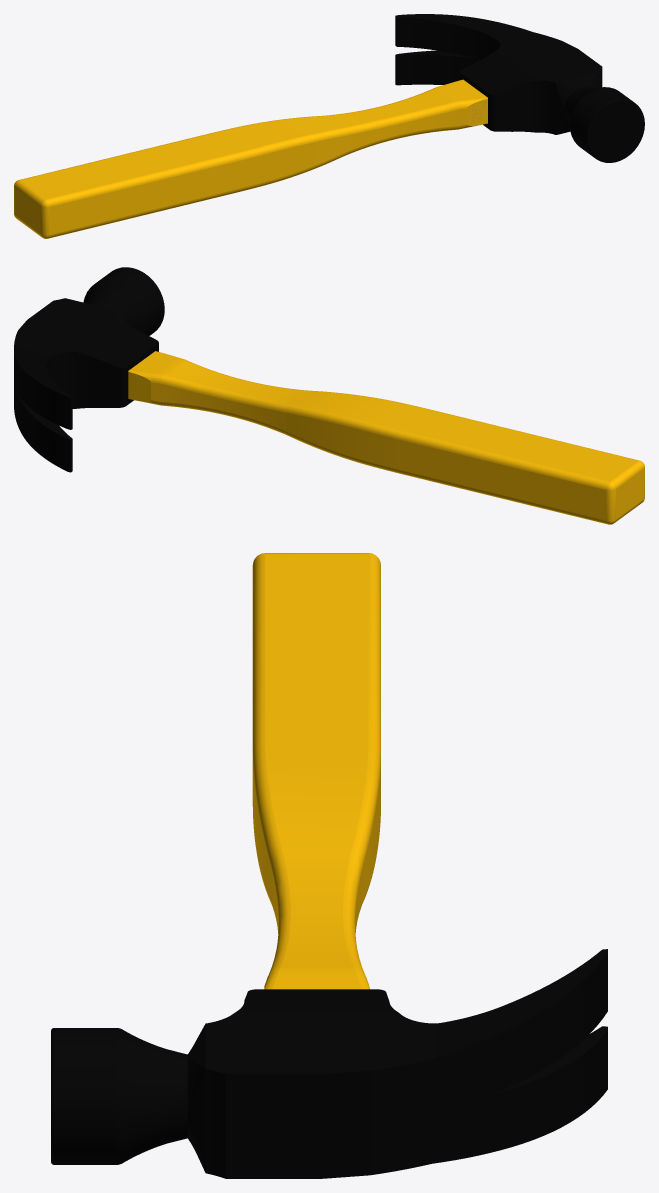
File: hammer_01_origin_gt_1.dae
3 views of the same model, one above another, from view 1: azimuth 30°, elevation 25°; view 2: azimuth 150°, elevation 25°; view 3: azimuth 270°, elevation 25° (orthographic). The views are drawn at different scales.
Parts seen in each view (by area): view 1: group_0 (×2), group_1; view 2: group_0, group_1; view 3: group_1, group_0.
Part boxes in pixels (<box>): group_0 (×2): <box>14,79,487,238</box>; group_1: <box>395,14,644,162</box>; group_0: <box>128,351,644,524</box>; group_1: <box>14,267,164,472</box>; group_1: <box>51,949,607,1178</box>; group_0: <box>252,553,380,989</box>.
Size of the model in its own units: 13.3 by 5.81 by 1.58.
